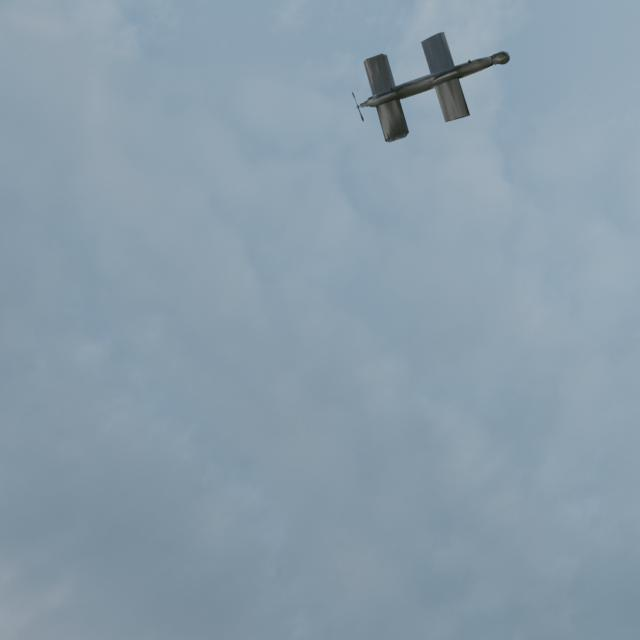Airaplan: (352, 32, 510, 143)
